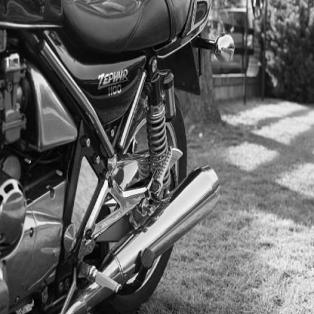Motocicleta: (0, 0, 226, 313)
